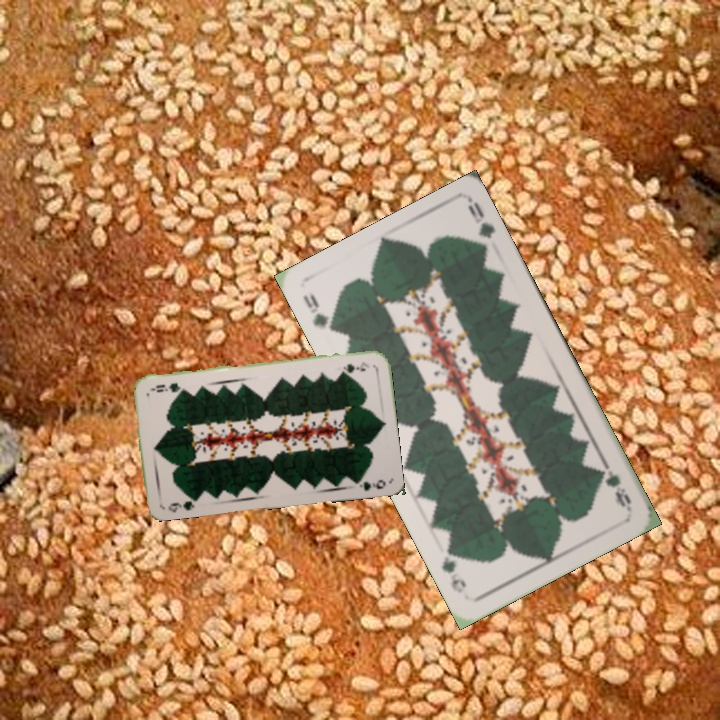G9: (594, 457, 634, 512), (298, 289, 342, 336), (164, 493, 200, 515), (338, 358, 372, 375)
